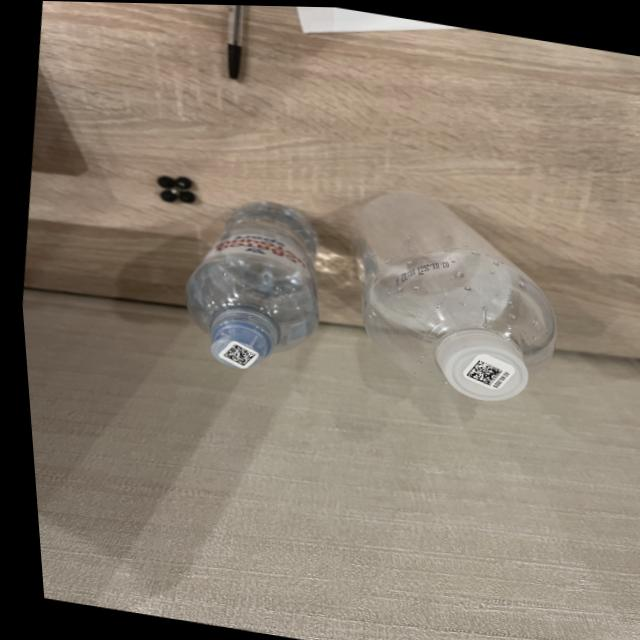datamatrix: (459, 356, 499, 386), (217, 342, 252, 367)
